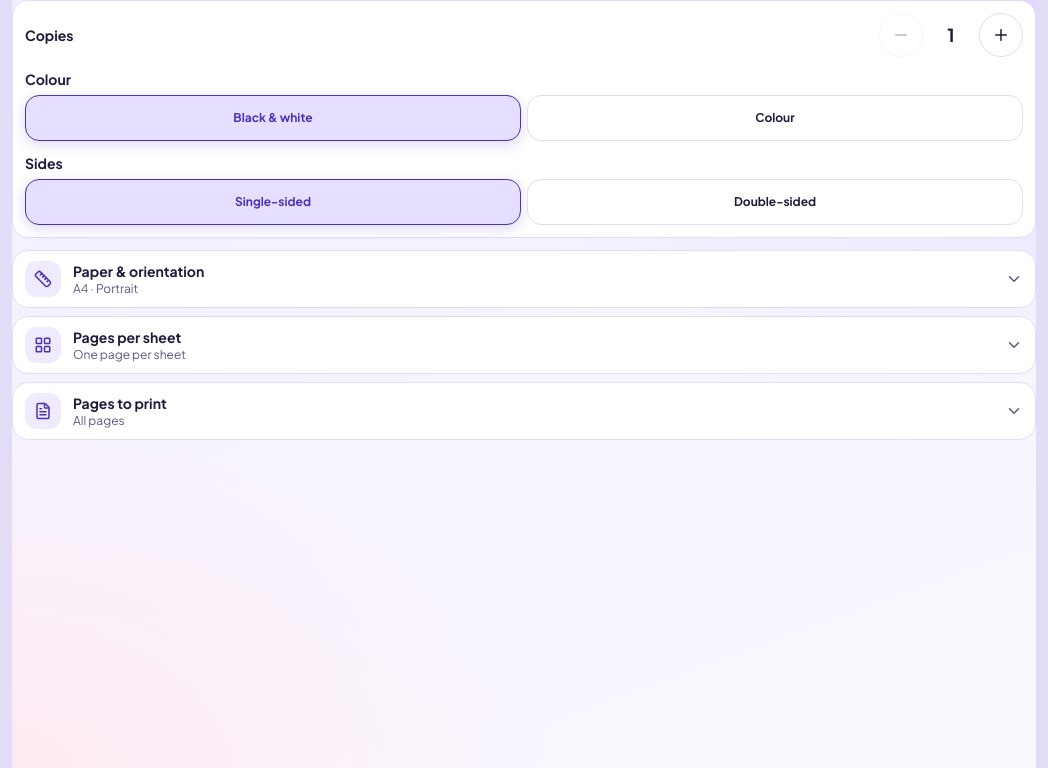
it: pages per sheet › the settings form shows the picker only for documents; position on paper is not here any more (it lives with the pages)
Step 1. Click the button "Pages per sheet One page per sheet" → coordinates (43, 345), box [13,317,1035,373]
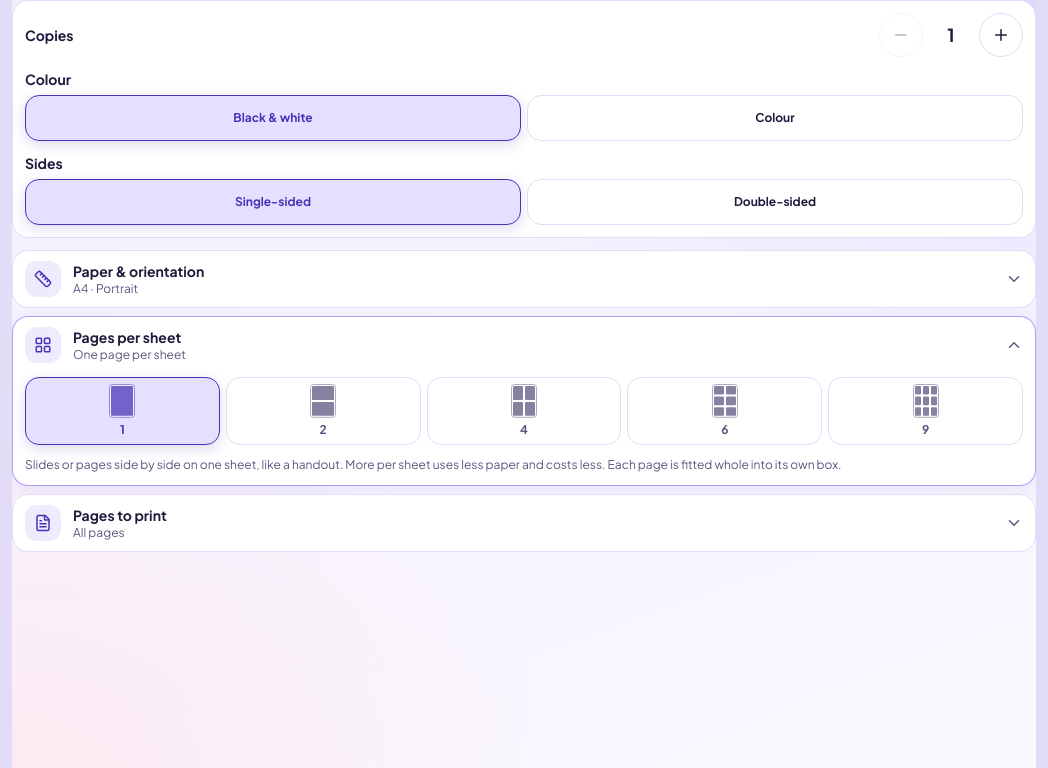
Expected: the element named "Pages per sheet" is shown, [25,377,1023,445]
